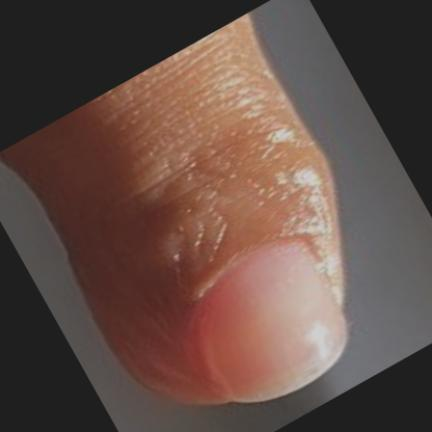Nail: (189, 242, 349, 403)
